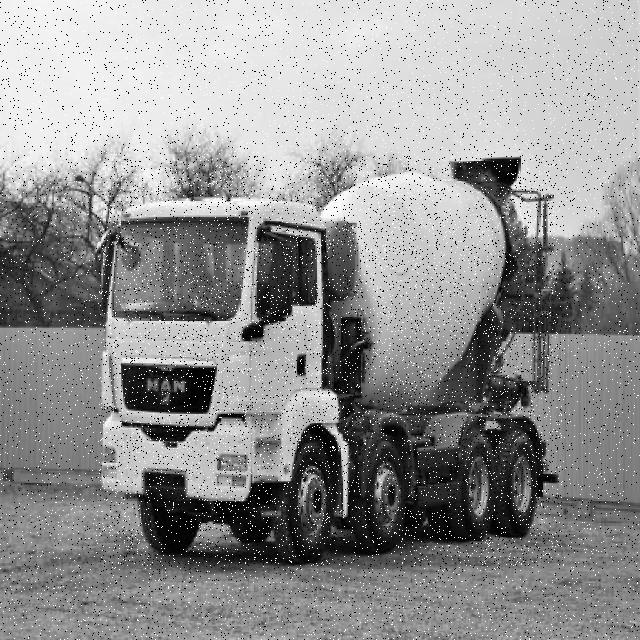Concrete Mixer: (99, 156, 562, 566)
